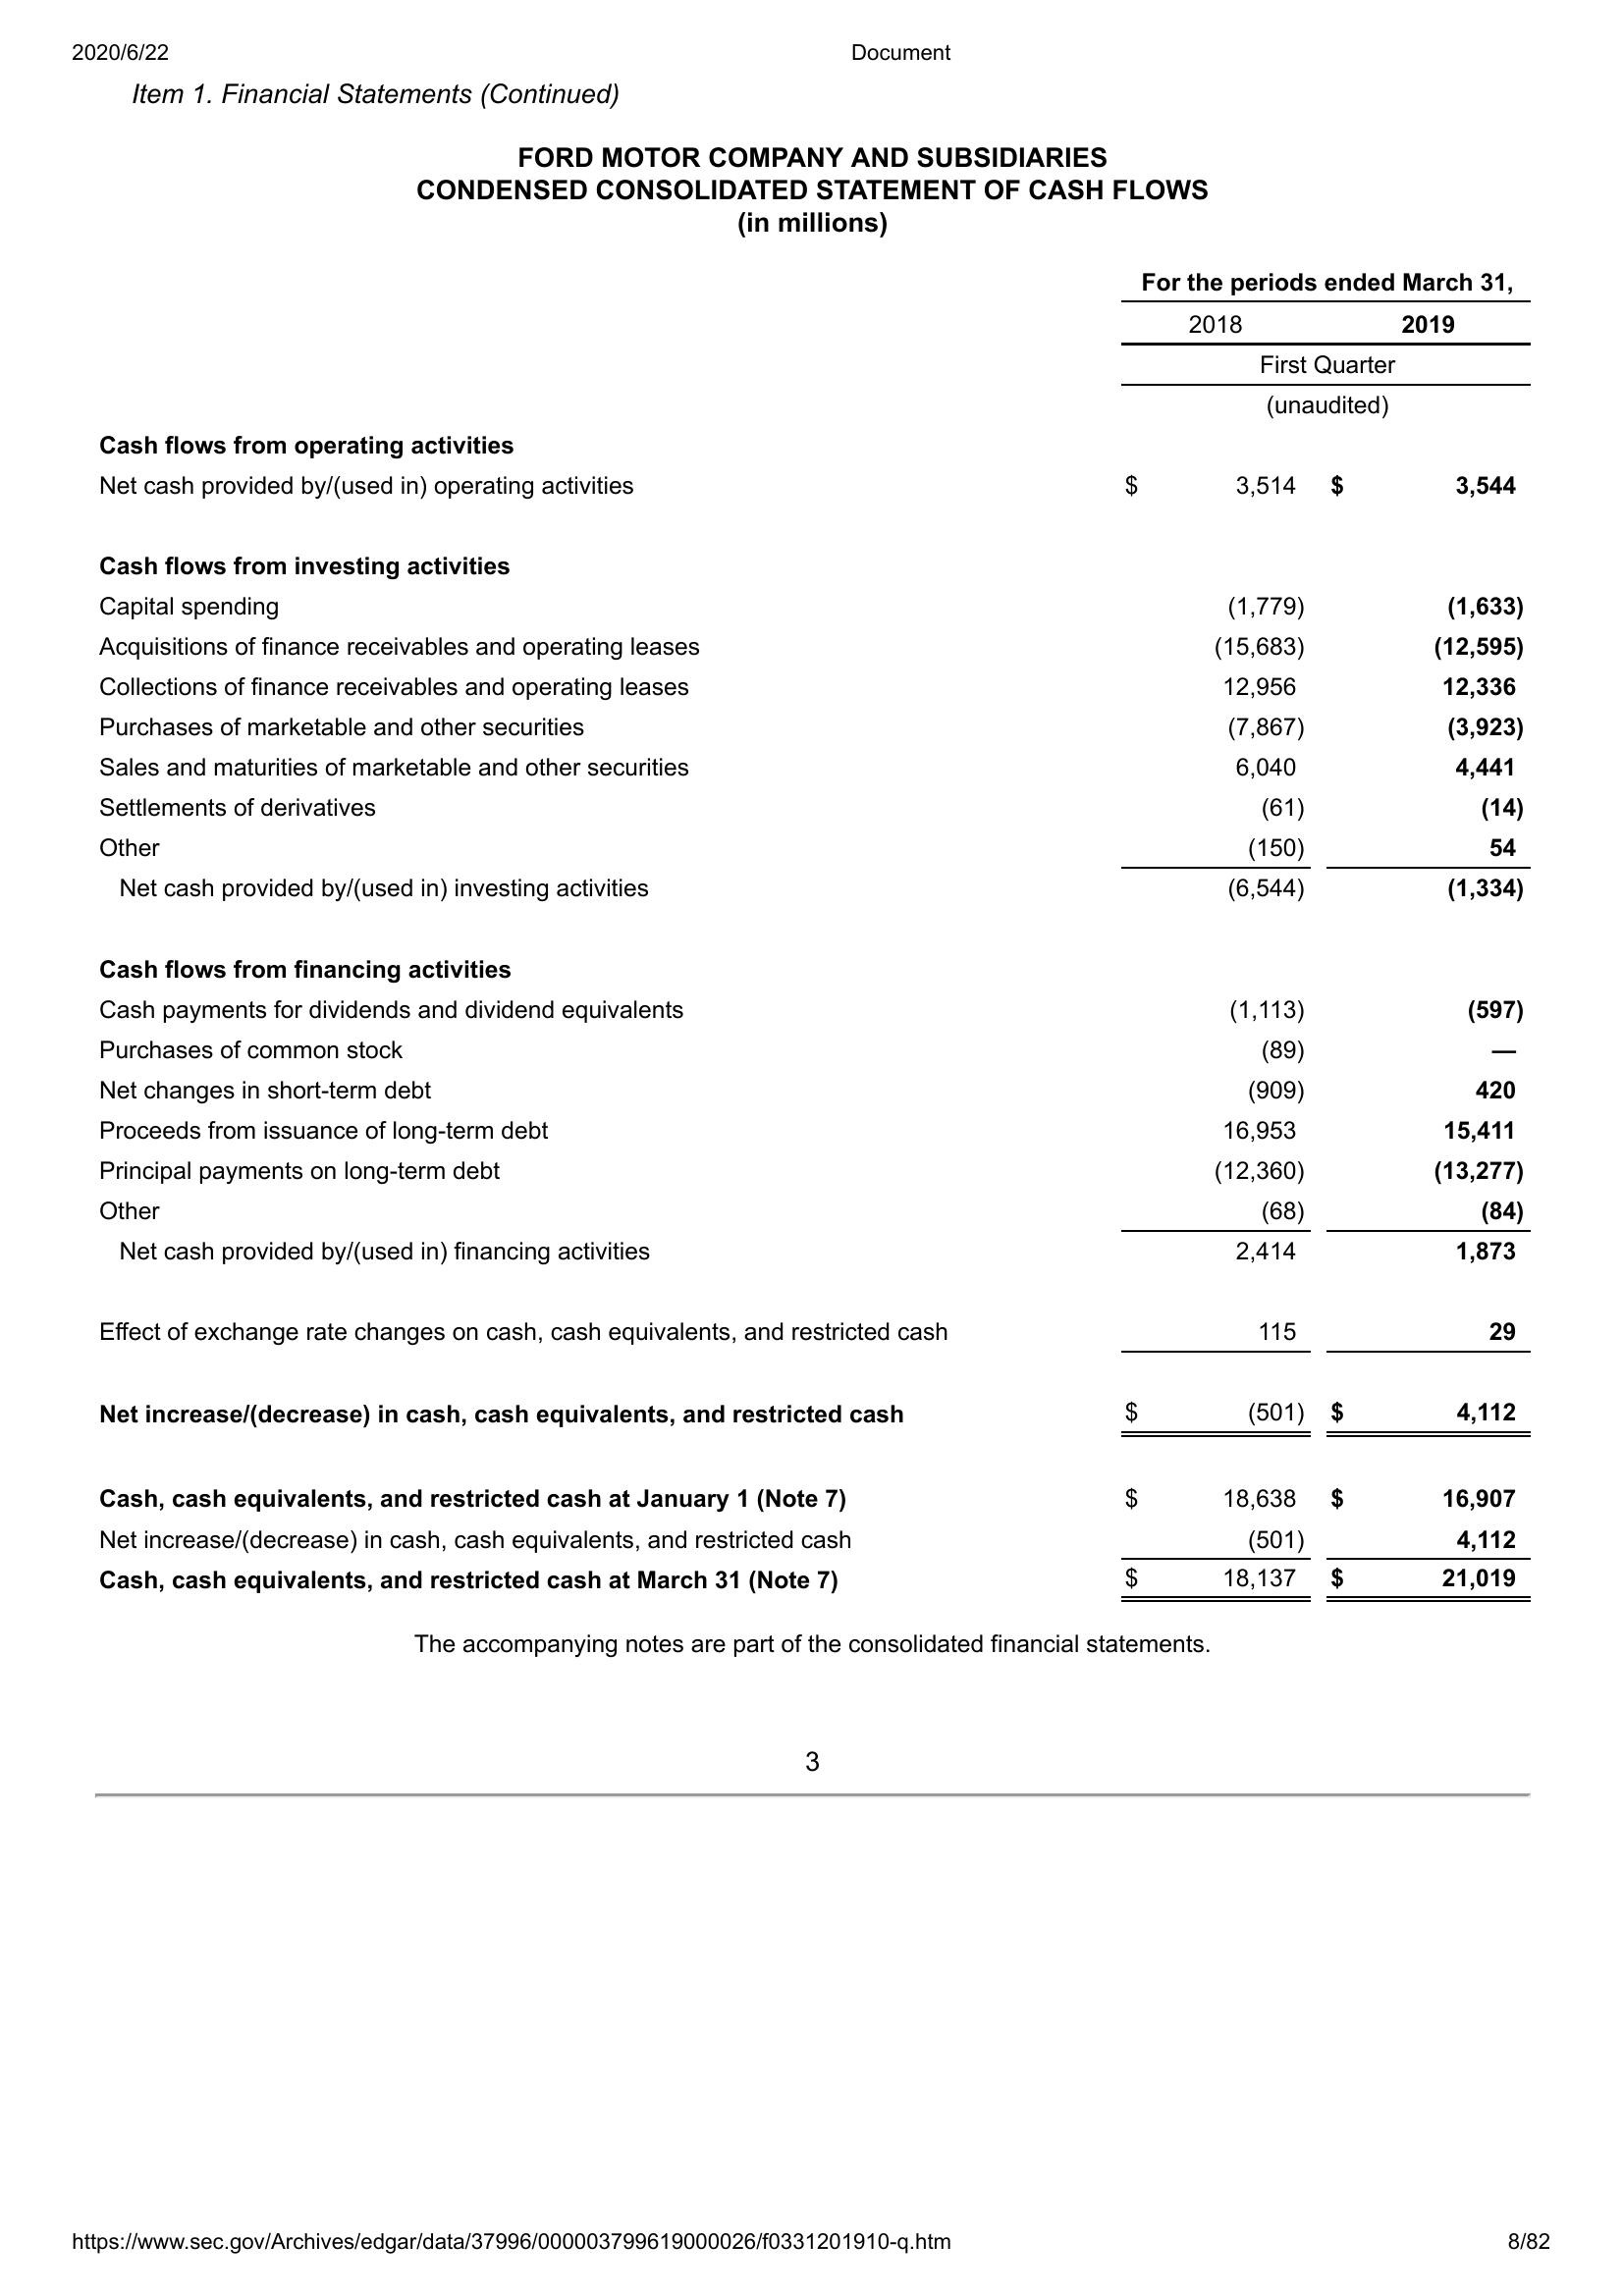table: (95, 267, 1539, 1606)
